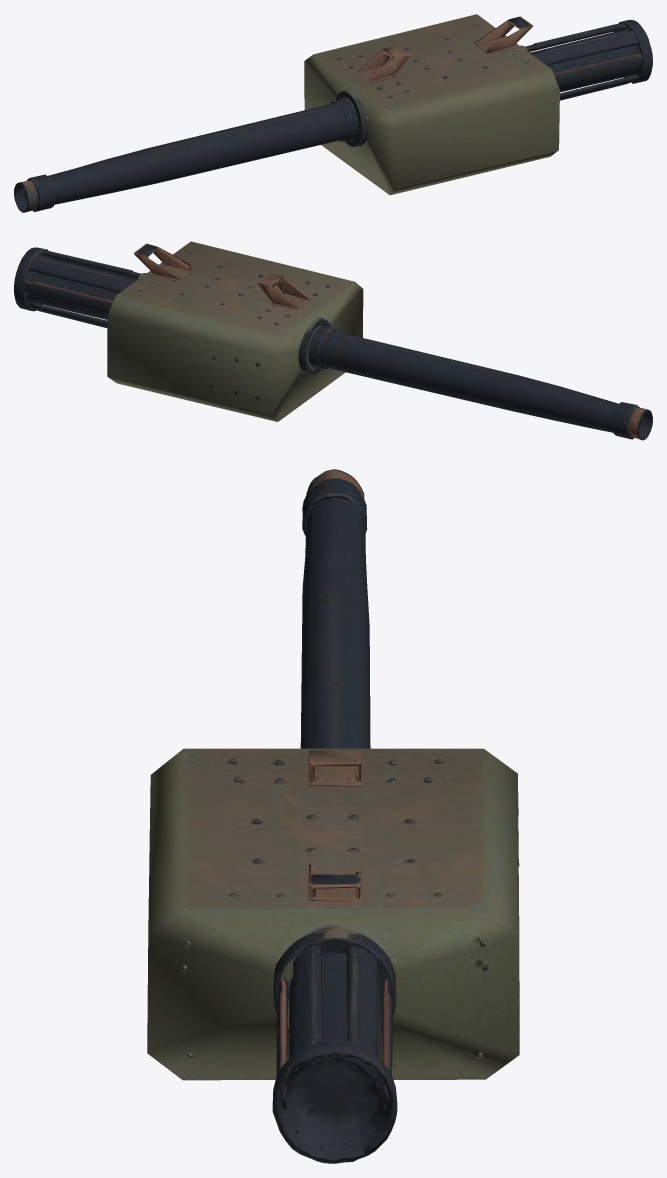
File: flak.glb
3 views of the same model, one above another, from view 1: azimuth 30°, elevation 25°; view 2: azimuth 150°, elevation 25°; view 3: azimuth 270°, elevation 25° (orthographic). The views are drawn at different scales.
Bounding box in the file's own units: 1 × 0.1638 × 0.2619.
1 material, 1 textured.
